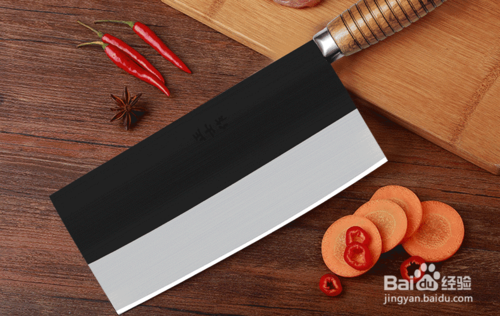knief: (97, 6, 434, 311)
